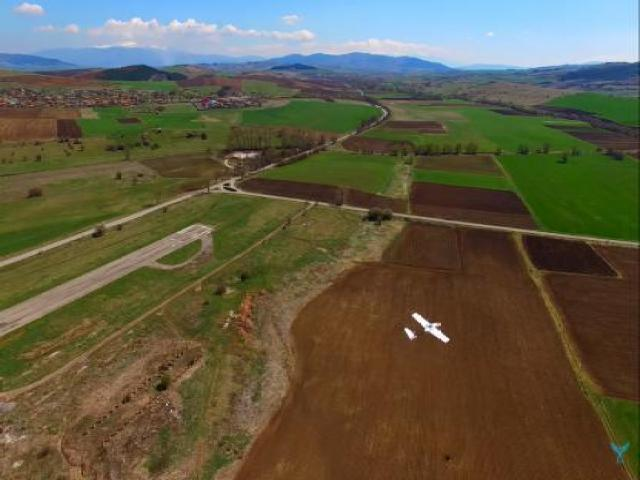uav: (397, 304, 452, 353)
